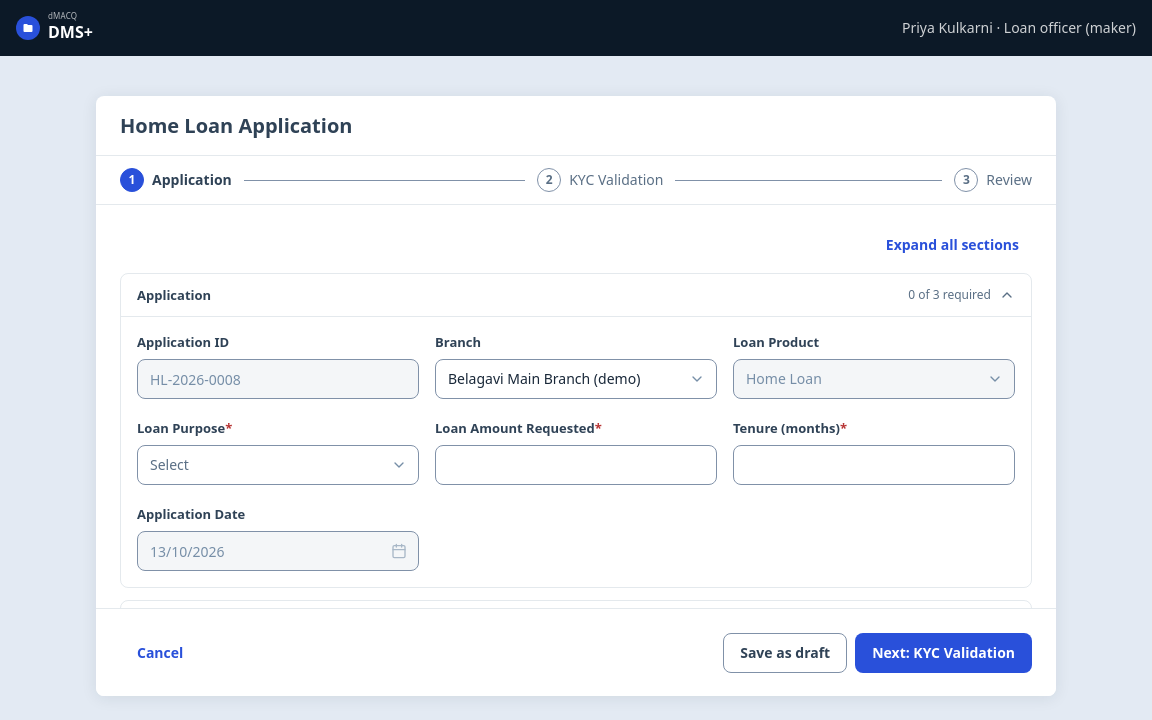
Test case: errors when the user leaves a field › clears as soon as the value is fixed, without leaving the field again
Step 1. Click the button "Expand all sections" → (952, 245), box [873, 229, 1032, 261]
(page scrolled)
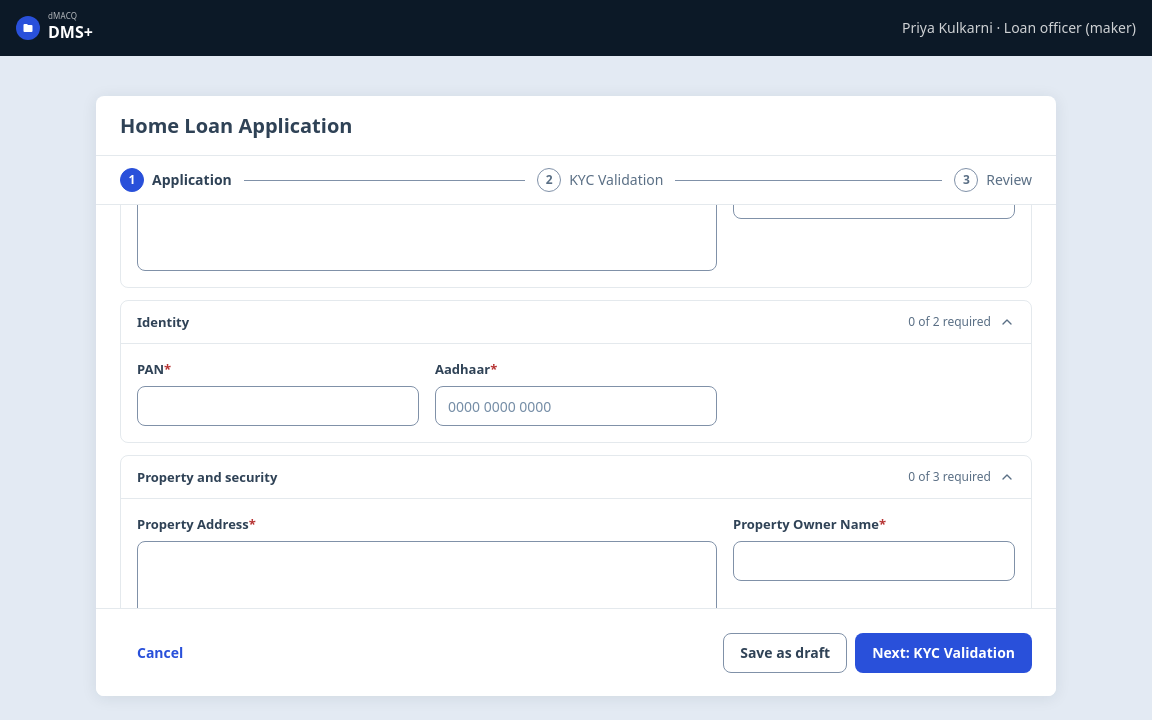
Step 2. Type "abc" into the field labelled "PAN*" → (278, 406), box [137, 386, 419, 426]
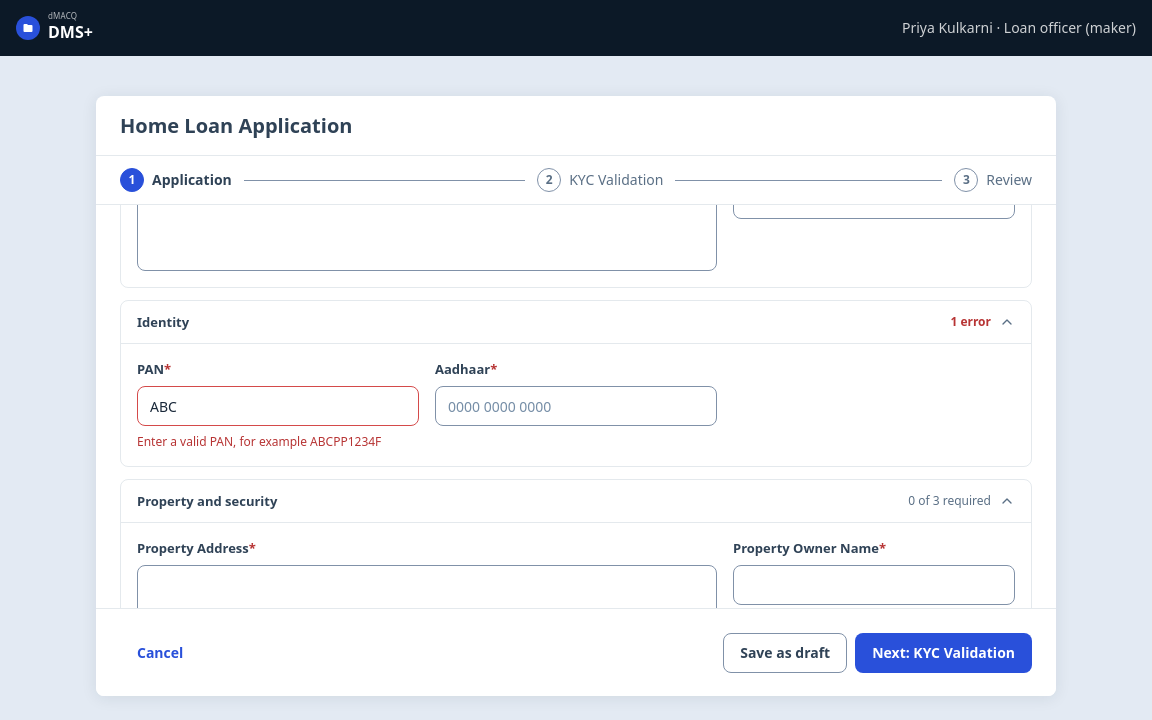
Step 3. Replace the text in the field labelled "PAN*" with "abcpp1234f" → (278, 406), box [137, 386, 419, 426]
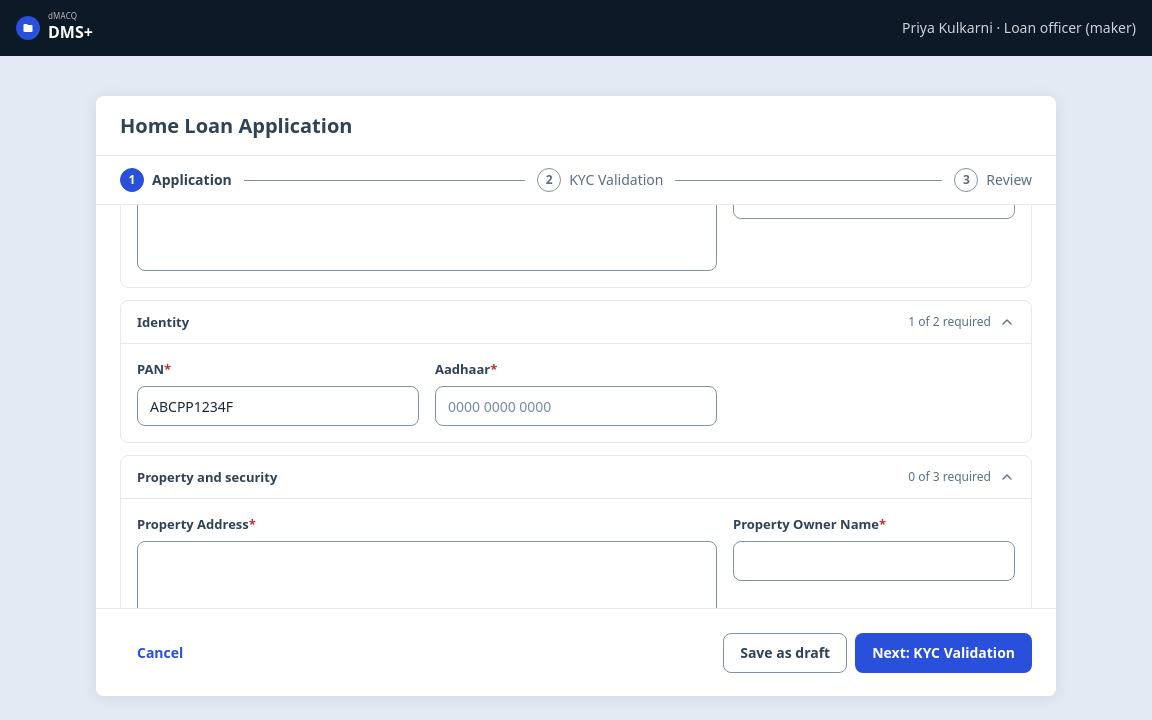
Expected: the message with id "field-pan-message" is gone
